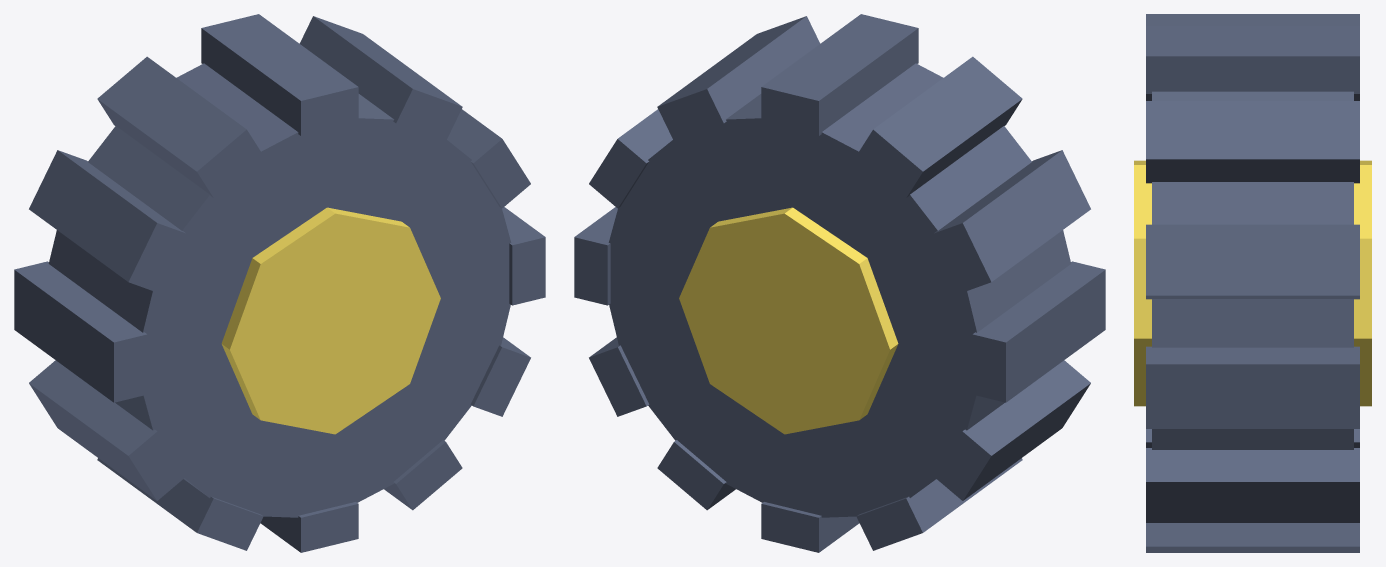
Rendered from wheel_knobbly.glb.
3 views of the same model, side by side, from view 1: azimuth 30°, elevation 25°; view 2: azimuth 150°, elevation 25°; view 3: azimuth 270°, elevation 25° (orthographic). The views are drawn at different scales.
Size of the model in its own units: 0.09 by 0.09 by 0.04.
